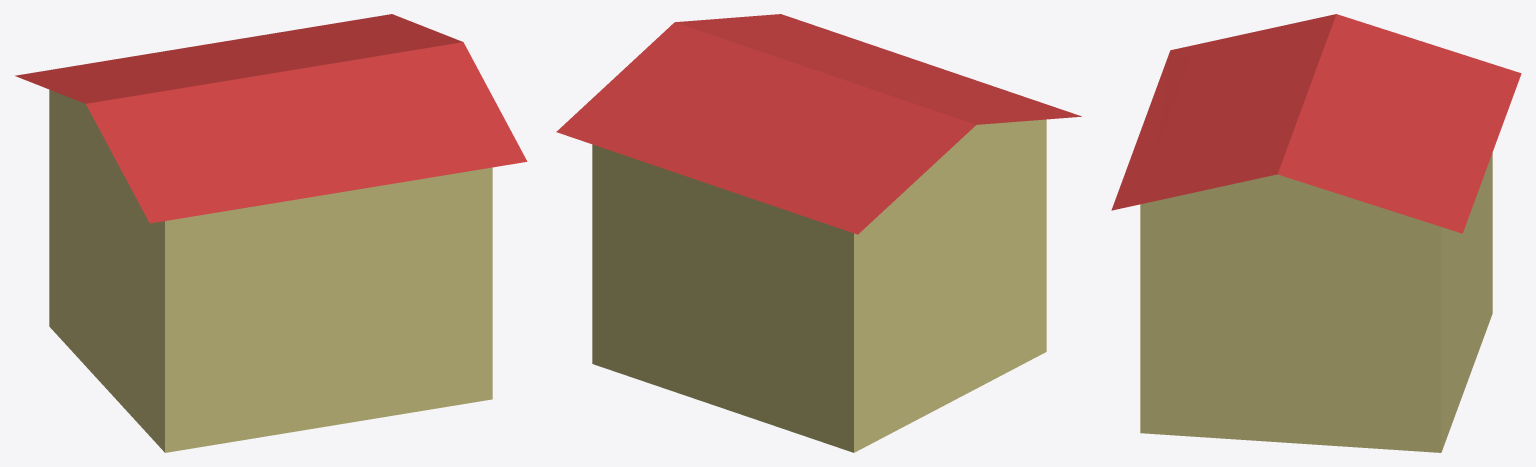
The picture shows the model from 3 angles, left to right: view 1: azimuth 30°, elevation 25°; view 2: azimuth 150°, elevation 25°; view 3: azimuth 270°, elevation 25°; orthographic projection. The views are drawn at different scales.
Visible parts, largest first — view 1: group_5, group_3, group_4; view 2: group_5, group_3, group_4; view 3: group_5, group_3, group_4.
Boxes of the visible parts, x1,y1,x2,y2 form: group_5: (49,89,492,452); group_3: (15,14,527,223); group_4: (86,42,463,223); group_5: (592,119,1046,452); group_3: (556,14,1075,234); group_4: (675,22,1081,131); group_5: (1140,153,1492,452); group_3: (1111,14,1521,233); group_4: (1156,14,1354,174).
Size of the model in its own units: 12.78 by 12.08 by 9.05.
